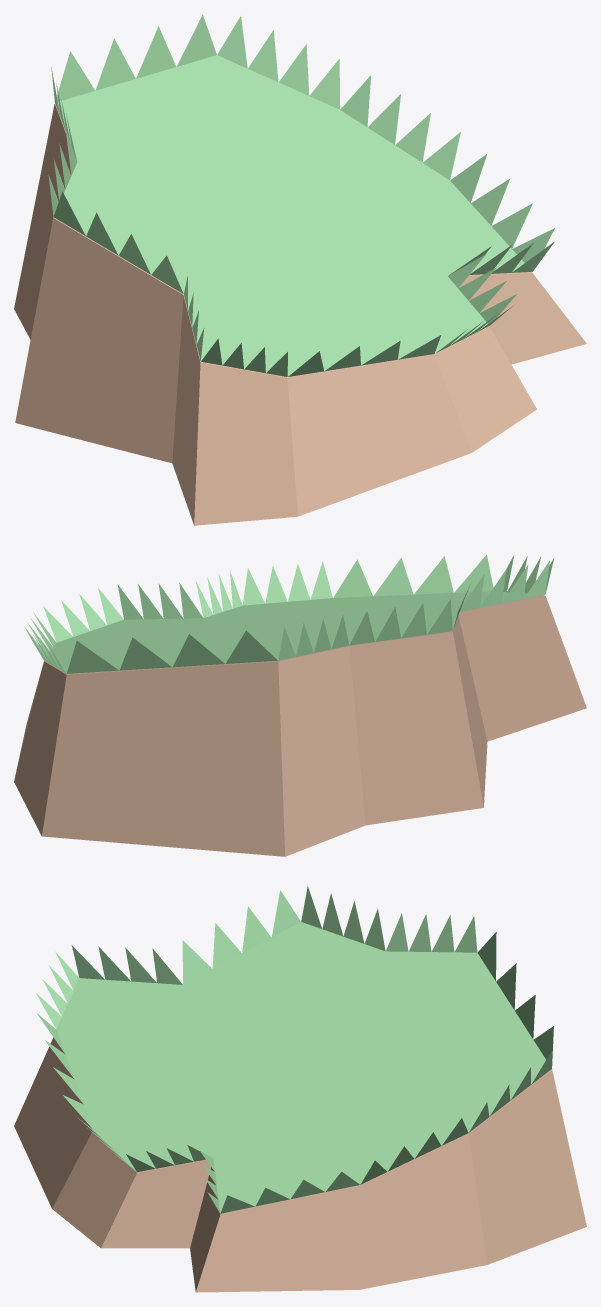
The model's file is simple_island_5.glb.
3 views of the same model, one above another, from view 1: azimuth 30°, elevation 25°; view 2: azimuth 150°, elevation 25°; view 3: azimuth 270°, elevation 25° (orthographic). The views are drawn at different scales.
Visible parts, largest first — view 1: ND — Sketch.004; view 2: ND — Sketch.004; view 3: ND — Sketch.004.
Part boxes in pixels (left/top/right/bottom): ND — Sketch.004: left=14, top=14, right=586, bottom=525; ND — Sketch.004: left=14, top=554, right=586, bottom=856; ND — Sketch.004: left=14, top=886, right=586, bottom=1292.
Size of what is drawn, in the model's own units: 26.11 by 12.35 by 29.34.
